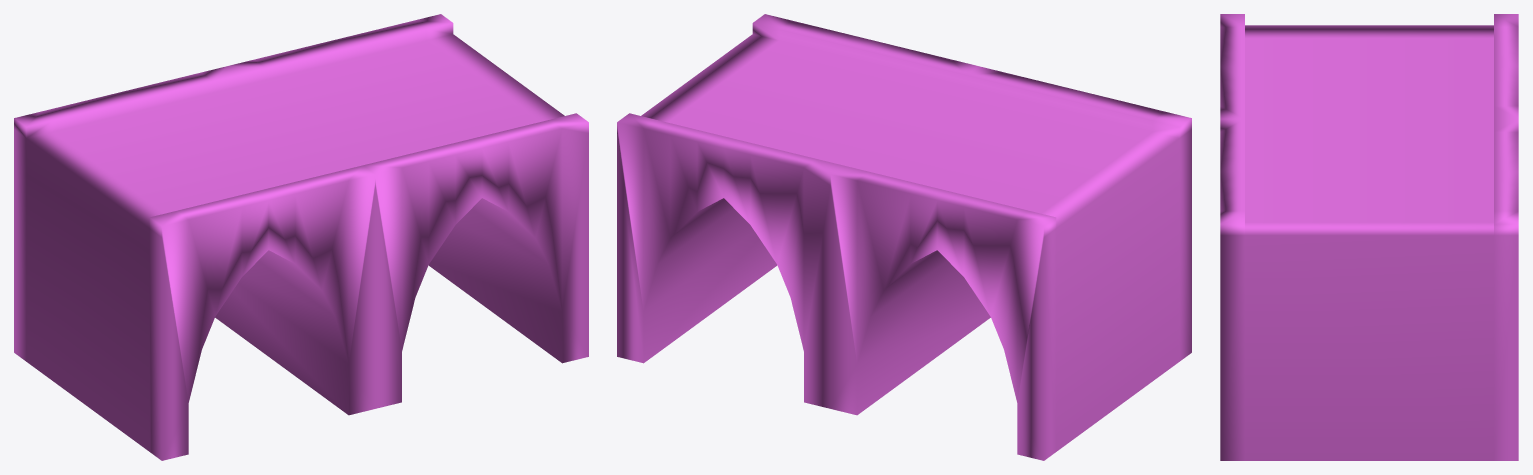
The model's file is RD_Arch_x2.fbx.
The picture shows the model from 3 angles, left to right: view 1: azimuth 30°, elevation 25°; view 2: azimuth 150°, elevation 25°; view 3: azimuth 270°, elevation 25°; orthographic projection.
Visible parts, largest first — view 1: Mesh; view 2: Mesh; view 3: Mesh.
Part boxes in pixels (bbox=[...]): Mesh: bbox=[14, 14, 588, 460]; Mesh: bbox=[617, 14, 1191, 460]; Mesh: bbox=[1220, 14, 1518, 460].
Bounding box in the file's own units: 800 × 420 × 480.
